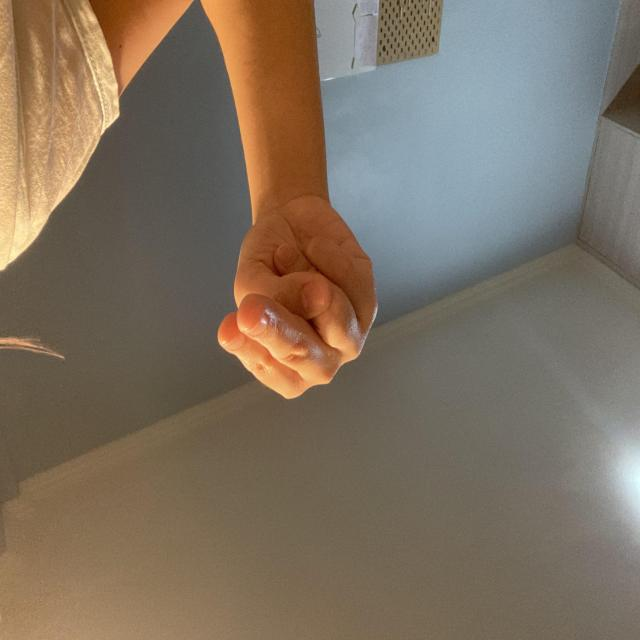N: (262, 240, 423, 444)
